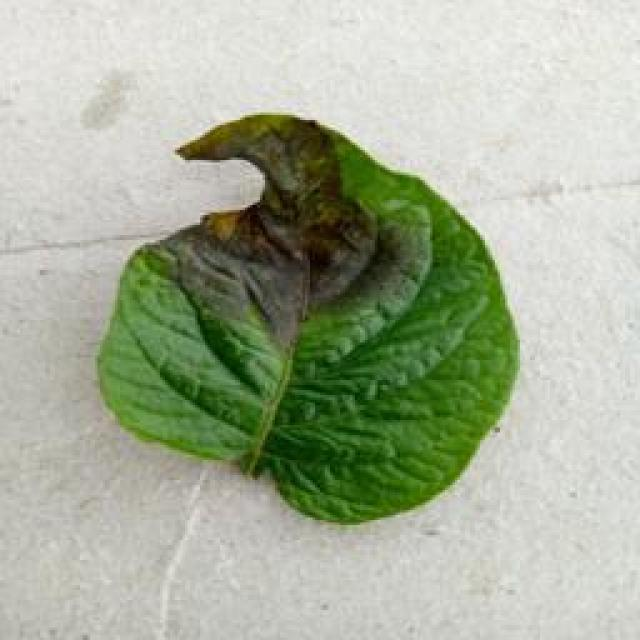late_blight: (92, 108, 522, 528)
